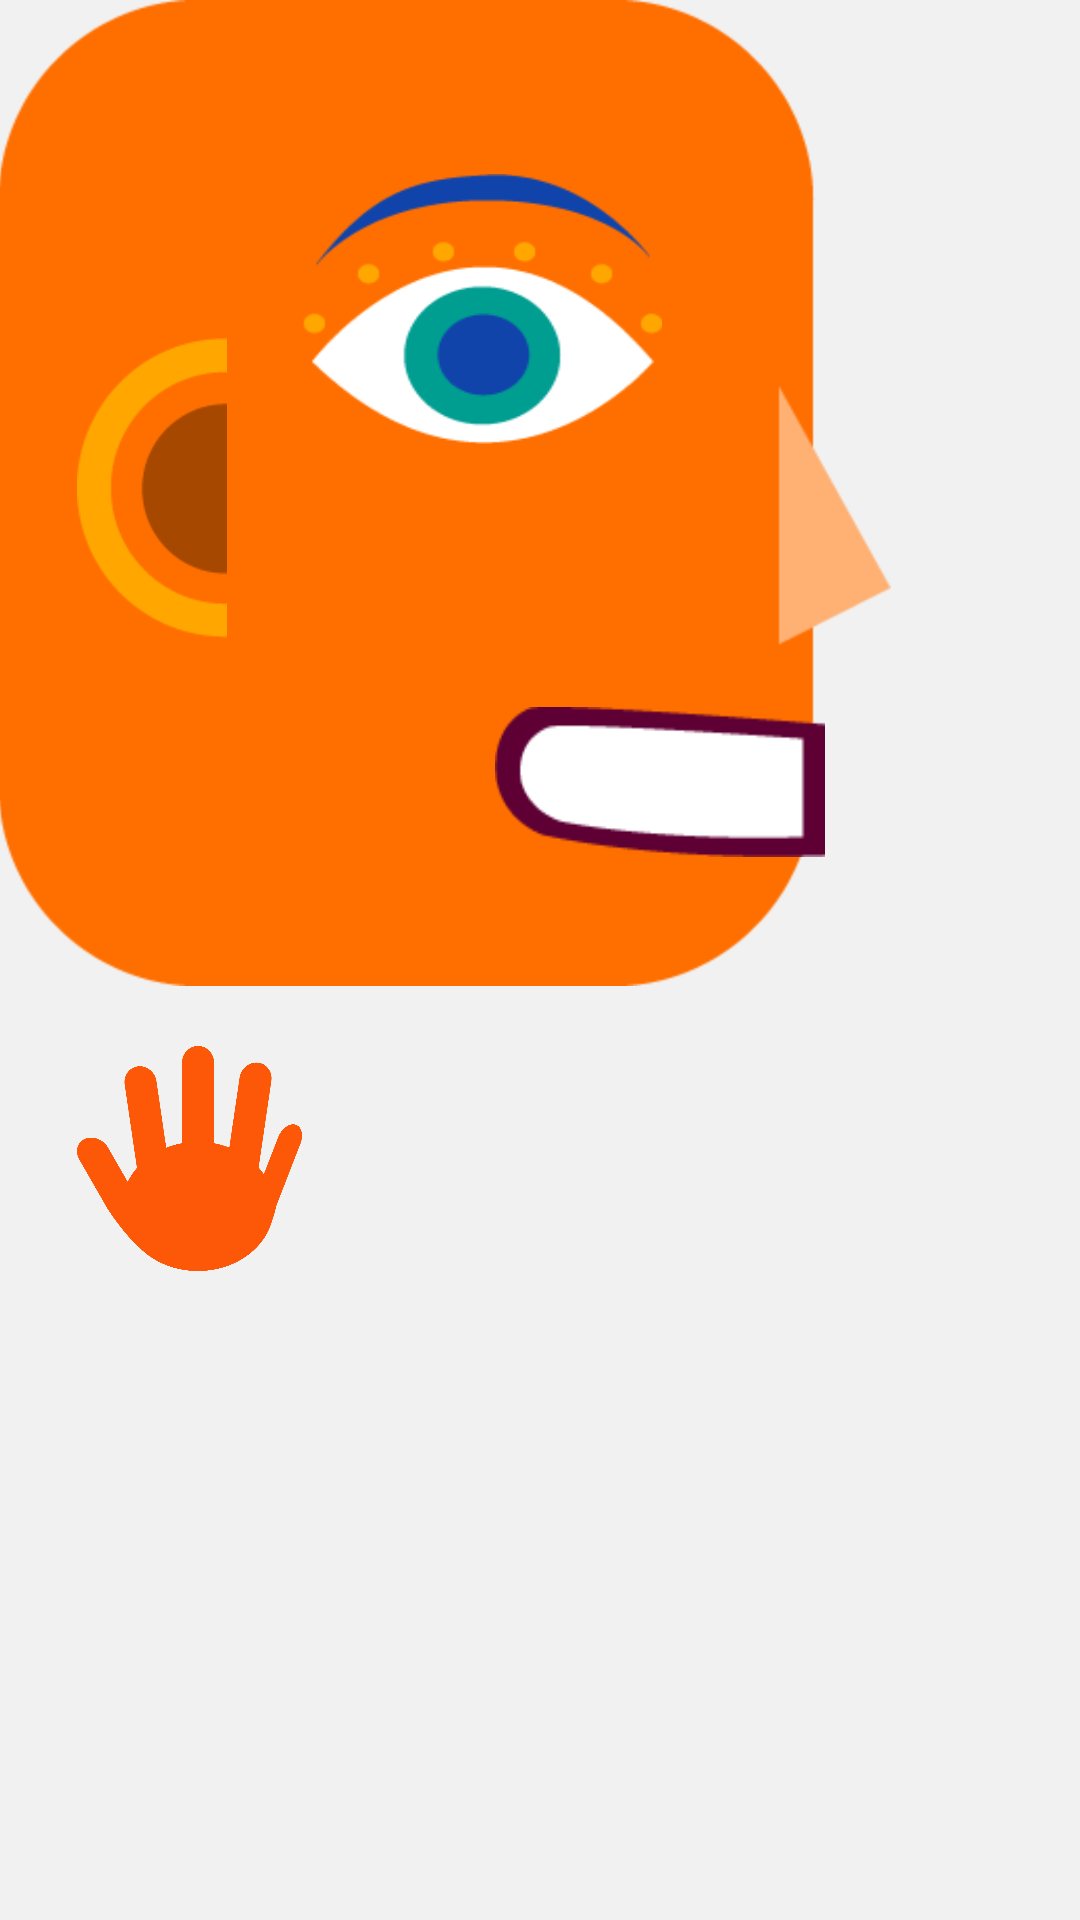

Icons on this 1080w x 1920h Android screen, each with its box as (x1, y1, x2, y2):
ear: (77, 338, 227, 637)
eye: (304, 174, 662, 444)
hand: (77, 1046, 302, 1271)
mouth: (495, 707, 825, 857)
